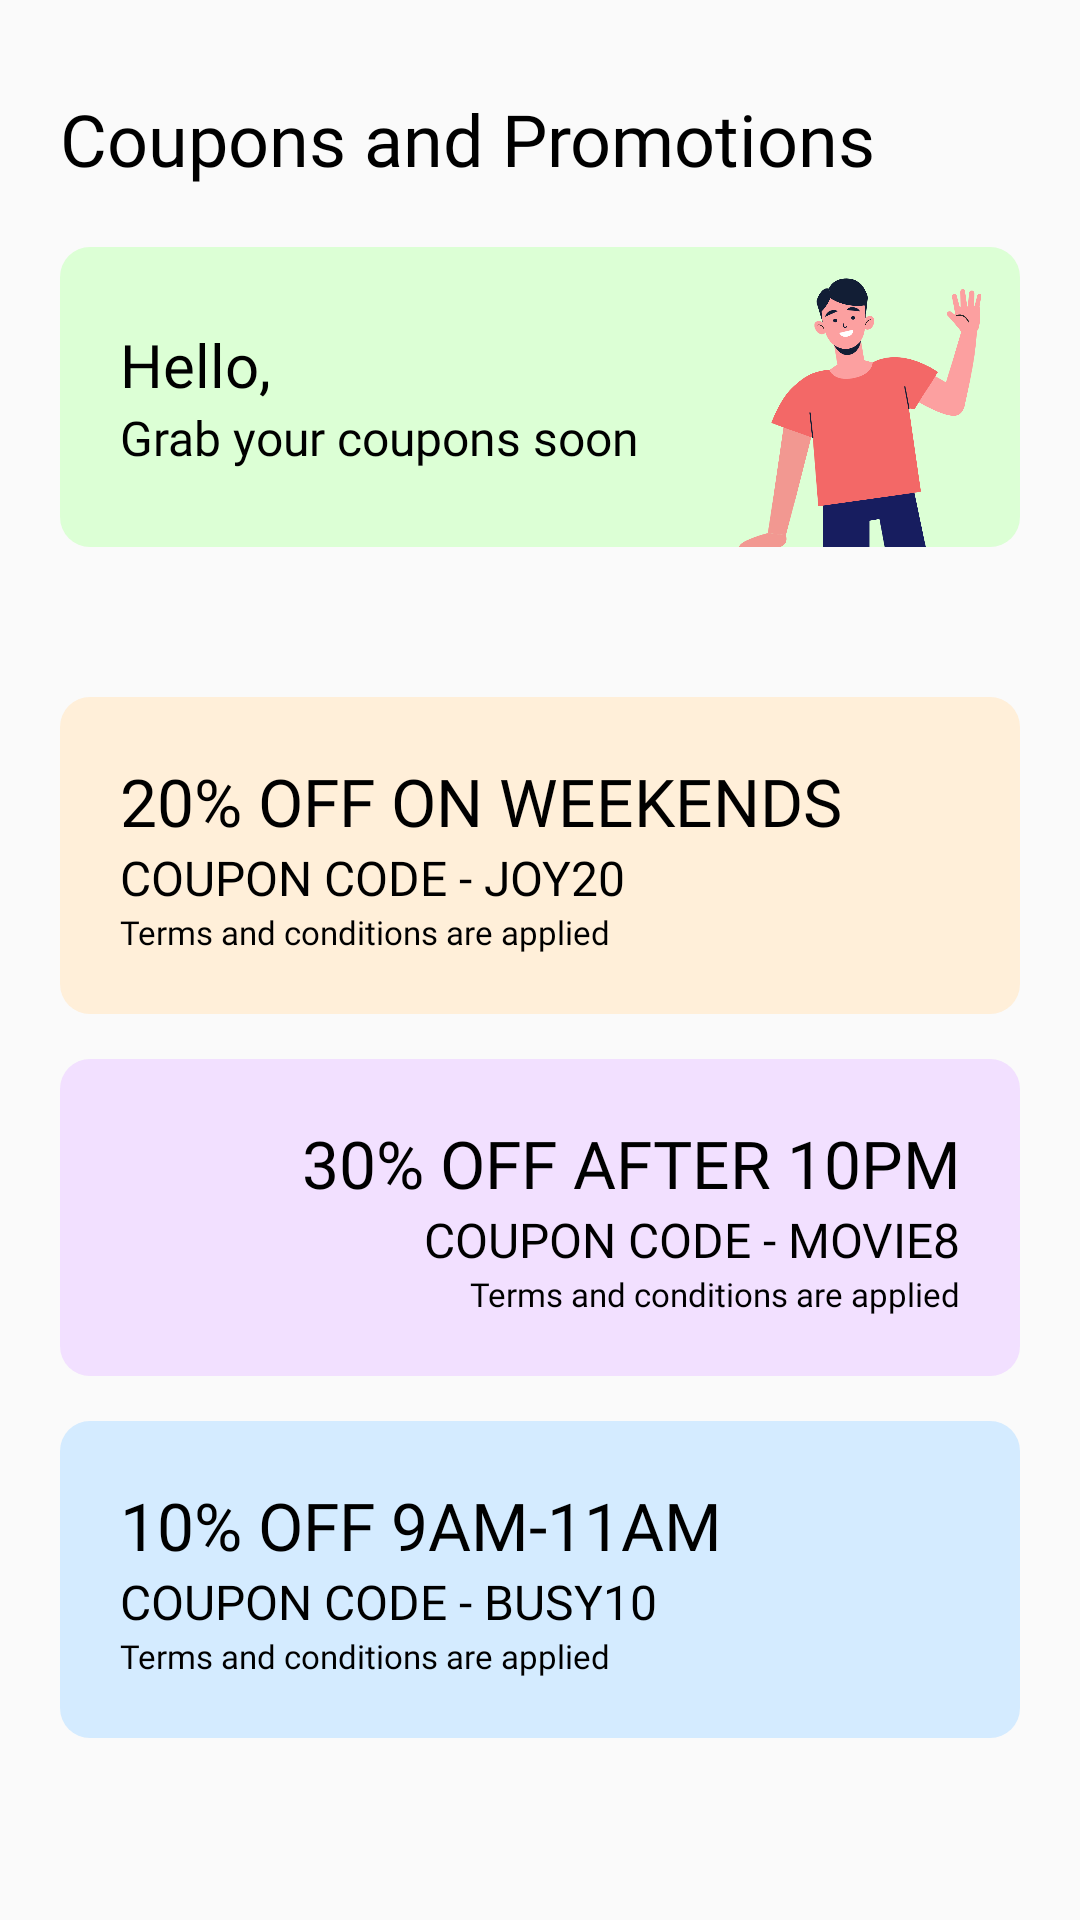

Where icons sit on this 1080×1920 app screen, as bbox=(x1, y1, x2, y2):
person: bbox=(700, 247, 1020, 547)
